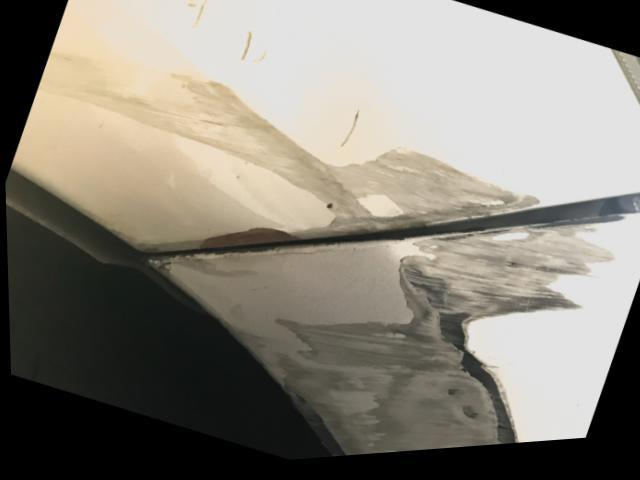scratch: (35, 50, 539, 242), (274, 225, 628, 461)
